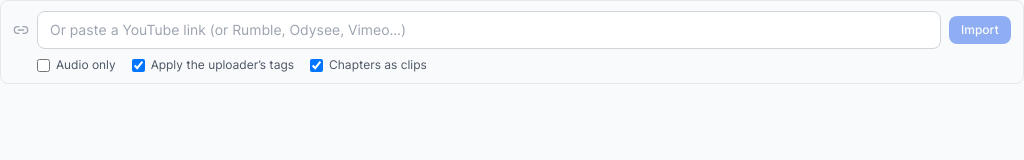
Test: UrlImport › keeps the options ticked for the next link
Click the checkbox labelled "Audio only" at (44, 65), box 37,58 -> 50,72
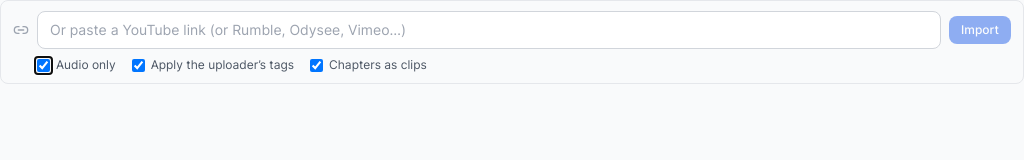
Type "https://youtu.be/a" into the field named "Link to import" at (489, 30), box 37,11 -> 941,49
Then press Enter
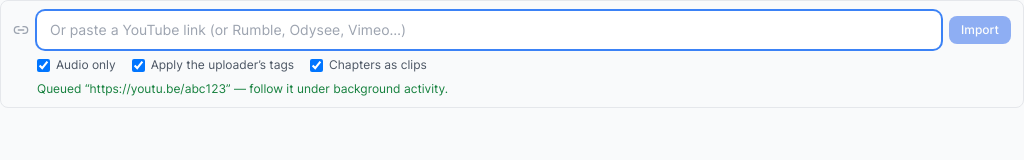
Check: the checkbox labelled "Audio only" is checked, box 37,58 -> 50,72
Check: the message "Queued “https://youtu.be/abc123” — follow it under background activity." is shown, box 37,81 -> 448,96
